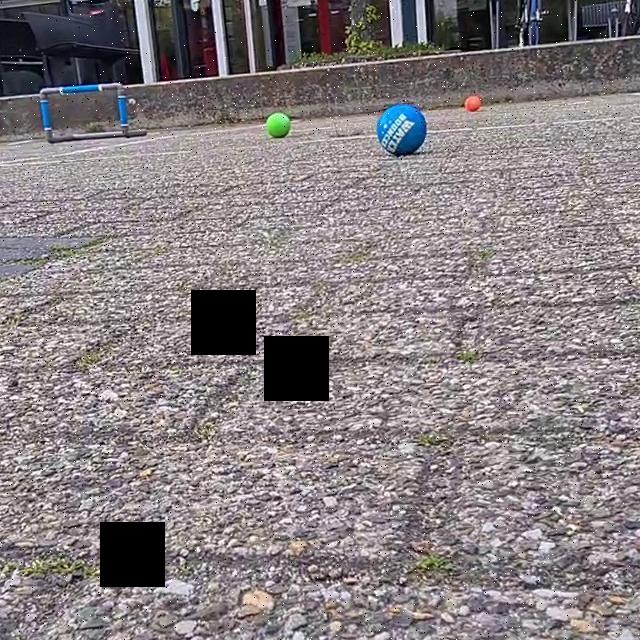ball: (262, 110, 294, 139)
